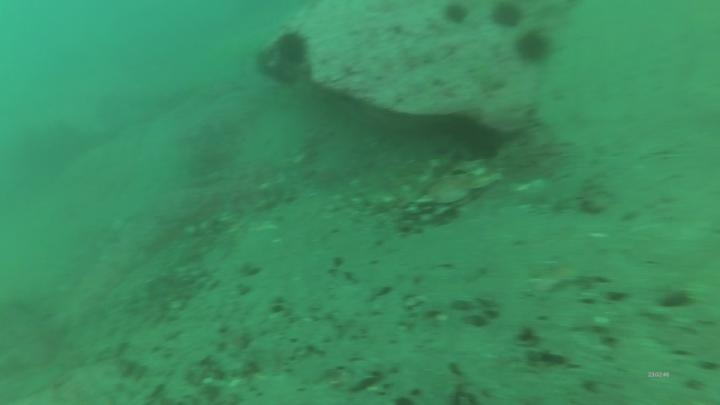echinus: (279, 36, 308, 65), (520, 35, 546, 59), (495, 5, 522, 27), (447, 7, 468, 23)
